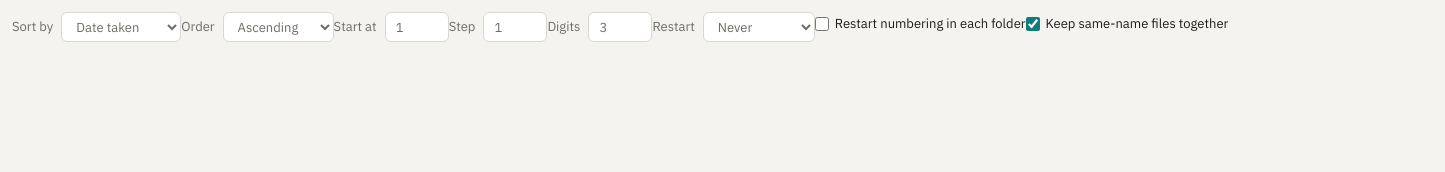
Test: SequenceTab › offers manual order and explains how to set it
Expected: the text "Drag rows in the preview" is not shown
Select "Manual order" in the dropdown labelled "Sort by" at (121, 27), box [61,12,181,42]
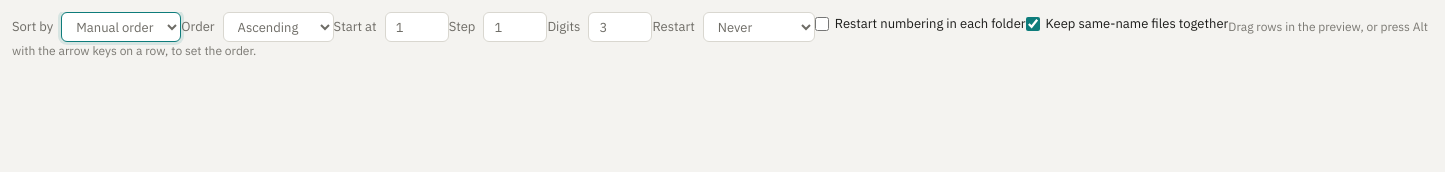
Result: the text "Drag rows in the preview" is shown at [12,19,1428,58]
